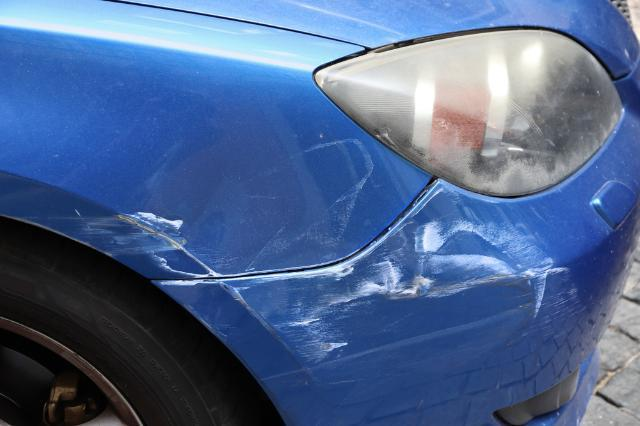scratch: (230, 221, 591, 378), (29, 136, 376, 280)
